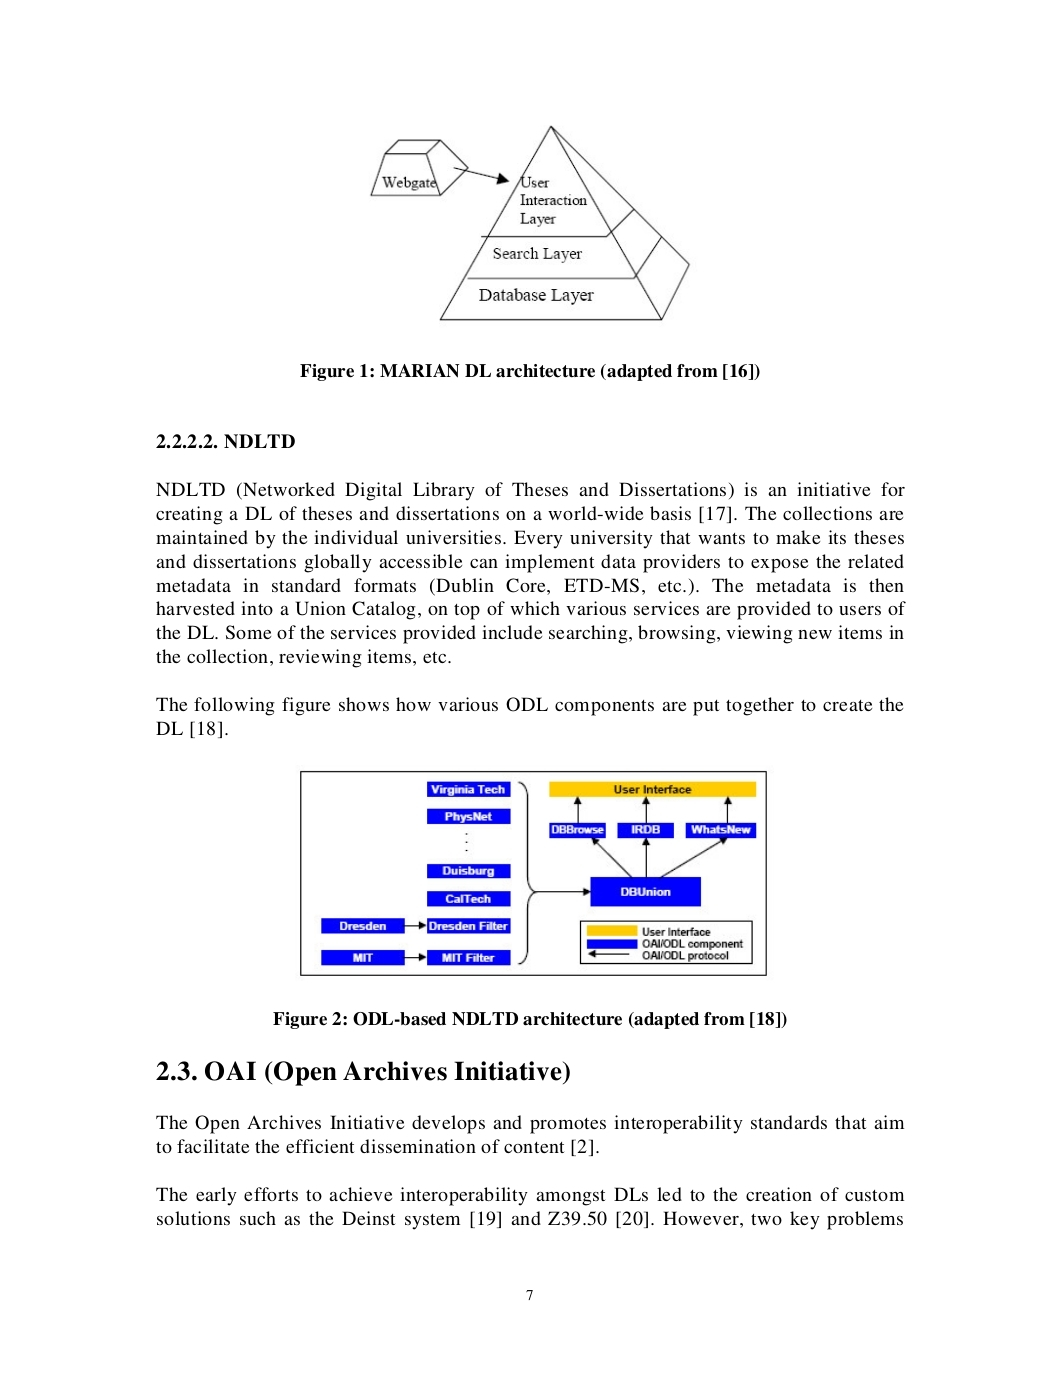figure: (300, 769, 766, 976), (370, 124, 690, 321)
